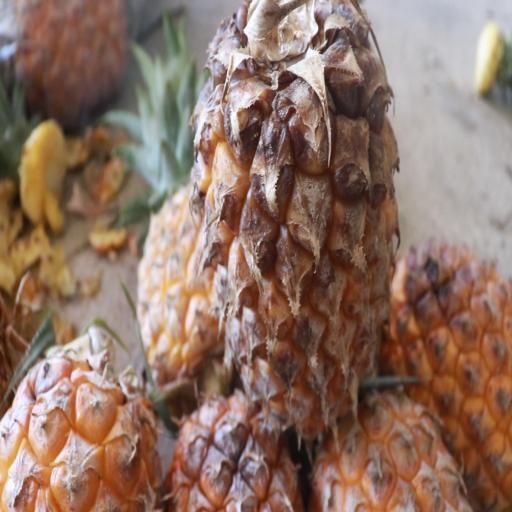Pineapple - v8 v1: (180, 0, 408, 458), (374, 233, 512, 512), (134, 116, 251, 405), (0, 321, 161, 512)
